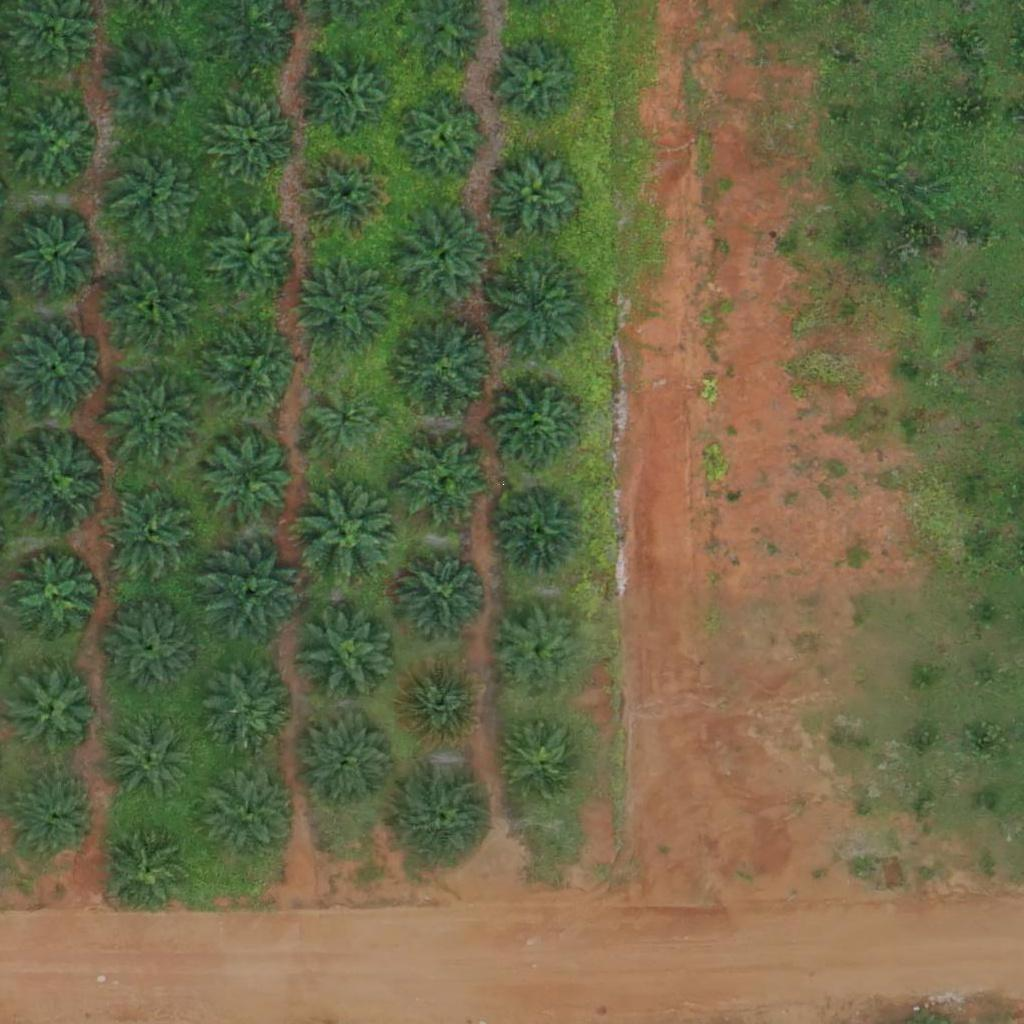Kelapa_Sawit: (301, 485, 401, 586), (201, 205, 301, 306), (202, 321, 302, 422), (200, 545, 300, 646), (107, 141, 207, 242), (104, 258, 204, 359), (103, 367, 203, 468), (102, 484, 202, 585), (100, 600, 200, 701), (3, 318, 103, 419), (8, 431, 108, 532), (197, 758, 297, 859), (299, 606, 399, 707), (297, 710, 397, 811), (396, 764, 496, 865), (486, 255, 586, 355), (391, 207, 491, 307), (393, 321, 493, 421), (296, 259, 396, 359), (110, 41, 198, 129), (495, 40, 583, 128), (496, 150, 584, 238), (403, 437, 491, 525), (397, 547, 485, 635), (210, 97, 298, 185), (10, 555, 98, 643), (10, 668, 98, 756), (12, 774, 100, 862), (108, 714, 196, 802), (105, 824, 193, 912), (397, 658, 485, 746), (502, 721, 590, 809), (306, 54, 393, 142), (496, 387, 583, 475), (497, 484, 584, 572), (496, 610, 583, 698), (398, 93, 485, 181), (302, 151, 389, 239), (205, 433, 292, 521), (10, 100, 97, 188), (13, 215, 100, 303), (212, 661, 299, 749), (308, 387, 383, 463)
